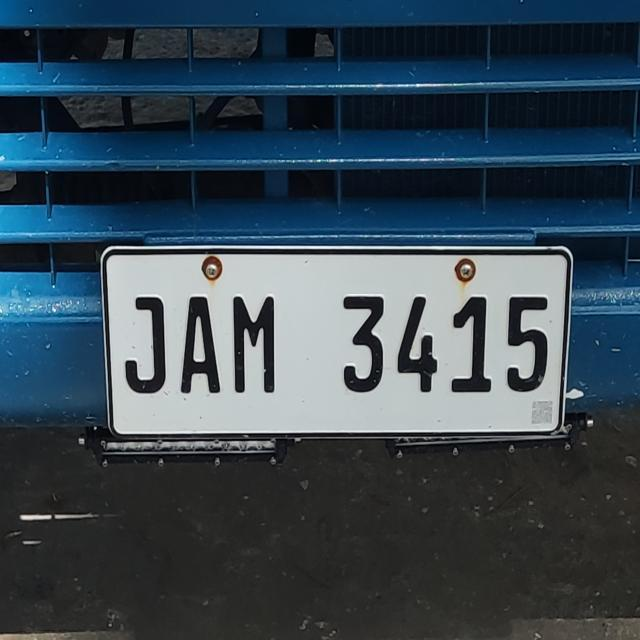LicensePlate: (87, 235, 579, 448)
